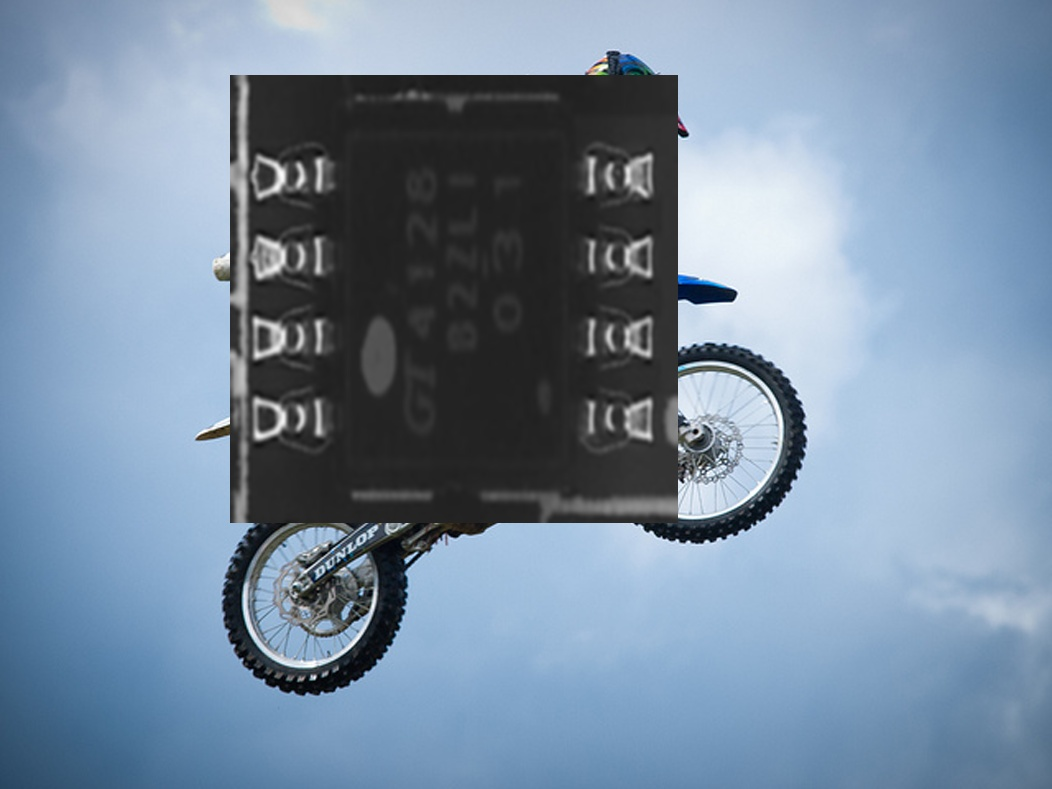PAD: (242, 114, 358, 478), (555, 115, 668, 478)
motorcycle: (190, 169, 808, 698)
